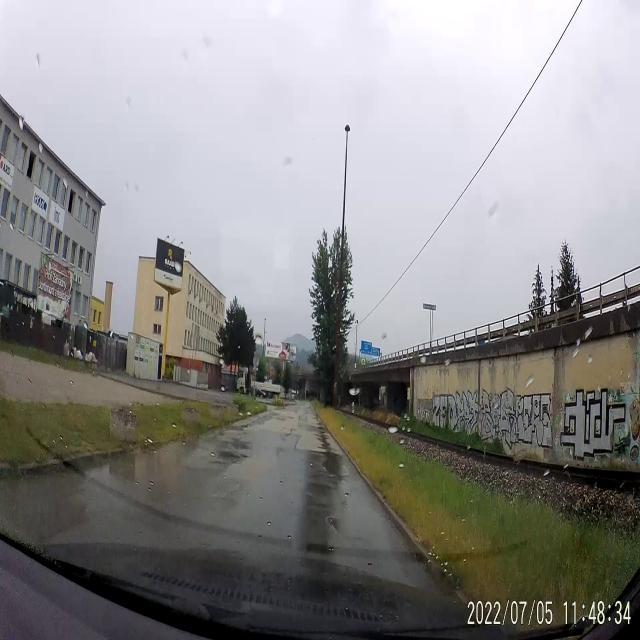Pothole: (214, 439, 254, 473), (324, 503, 346, 535)
